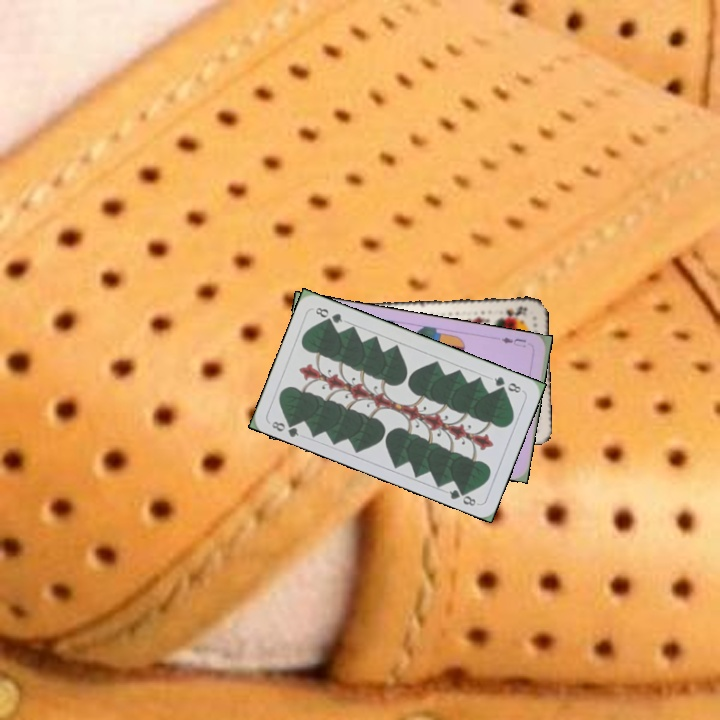EU: (498, 333, 529, 350)
G8: (490, 372, 524, 396), (268, 415, 301, 439)
SK: (501, 302, 530, 320)
